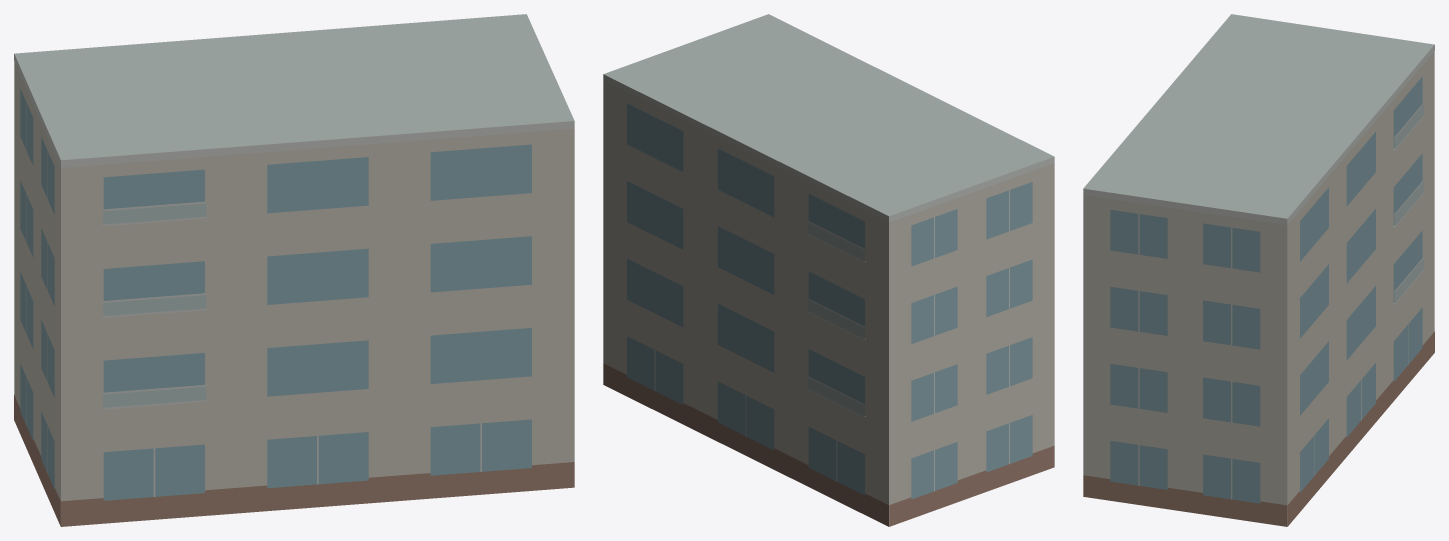
Rendered from survey-upis-32947182.glb.
3 renders of one model, left to right at view 1: azimuth 30°, elevation 25°; view 2: azimuth 150°, elevation 25°; view 3: azimuth 270°, elevation 25°, orthographic. The views are drawn at different scales.
Visible parts, largest first — view 1: survey-upis-32947182.tmp; view 2: survey-upis-32947182.tmp; view 3: survey-upis-32947182.tmp.
Boxes of the visible parts, <box> form: survey-upis-32947182.tmp: <box>14,14,574,526</box>; survey-upis-32947182.tmp: <box>603,14,1054,526</box>; survey-upis-32947182.tmp: <box>1083,14,1434,526</box>.
Size of the model in its own units: 16.97 by 11.9 by 12.32.
